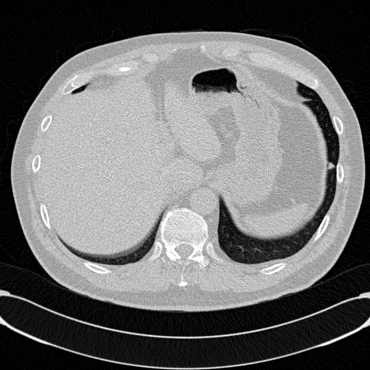nodule: (328, 162, 334, 168)
